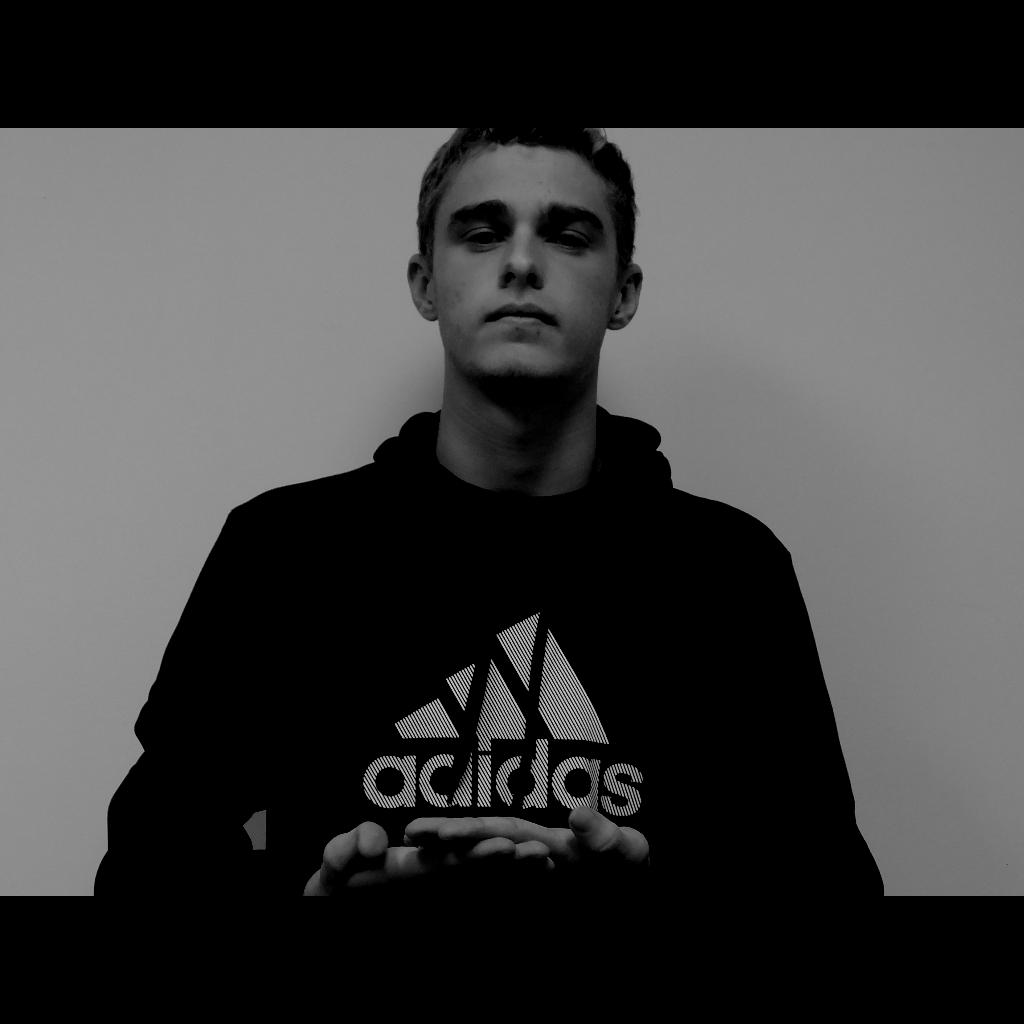good: (318, 804, 650, 896)
